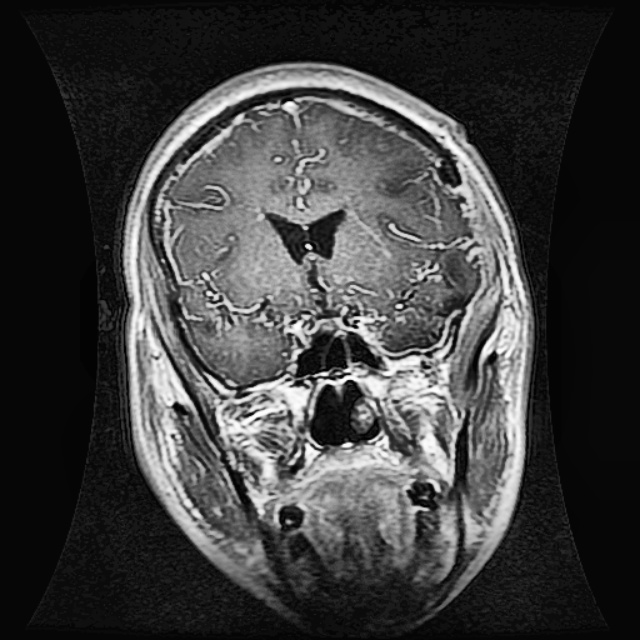Glioma: (384, 235, 480, 347)
